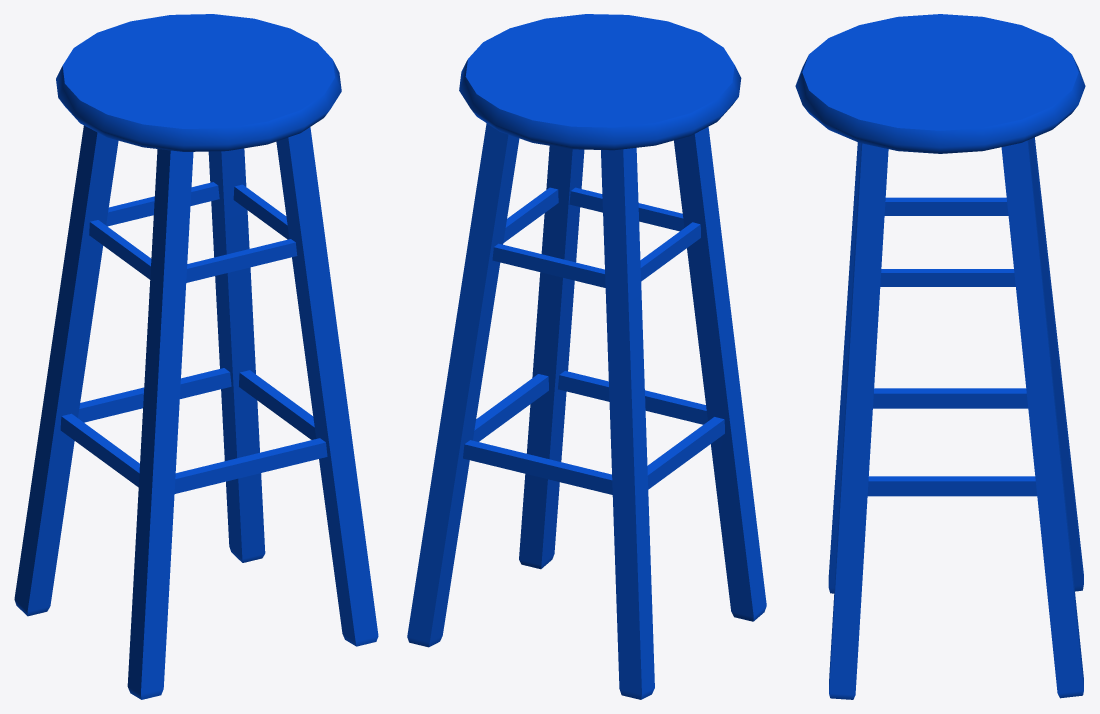
File: Stool.fbx
The picture shows the model from 3 angles, left to right: view 1: azimuth 30°, elevation 25°; view 2: azimuth 150°, elevation 25°; view 3: azimuth 270°, elevation 25°; orthographic projection. The views are drawn at different scales.
Visible parts, largest first — view 1: Stool; view 2: Stool; view 3: Stool.
Boxes of the visible parts, bbox=[...] form: Stool: bbox=[14, 14, 378, 699]; Stool: bbox=[407, 14, 766, 699]; Stool: bbox=[795, 14, 1085, 699].
Size of the model in its own units: 214 by 463 by 214.
